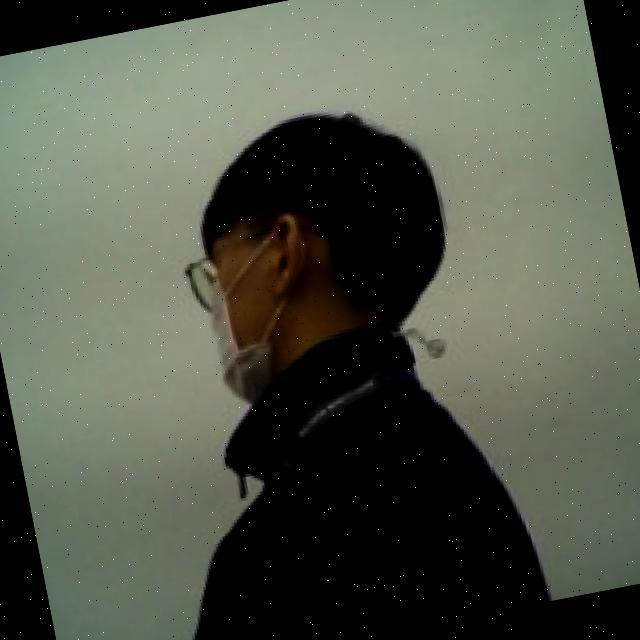mask: (178, 206, 353, 419)
no_gloves: (174, 85, 460, 343)
